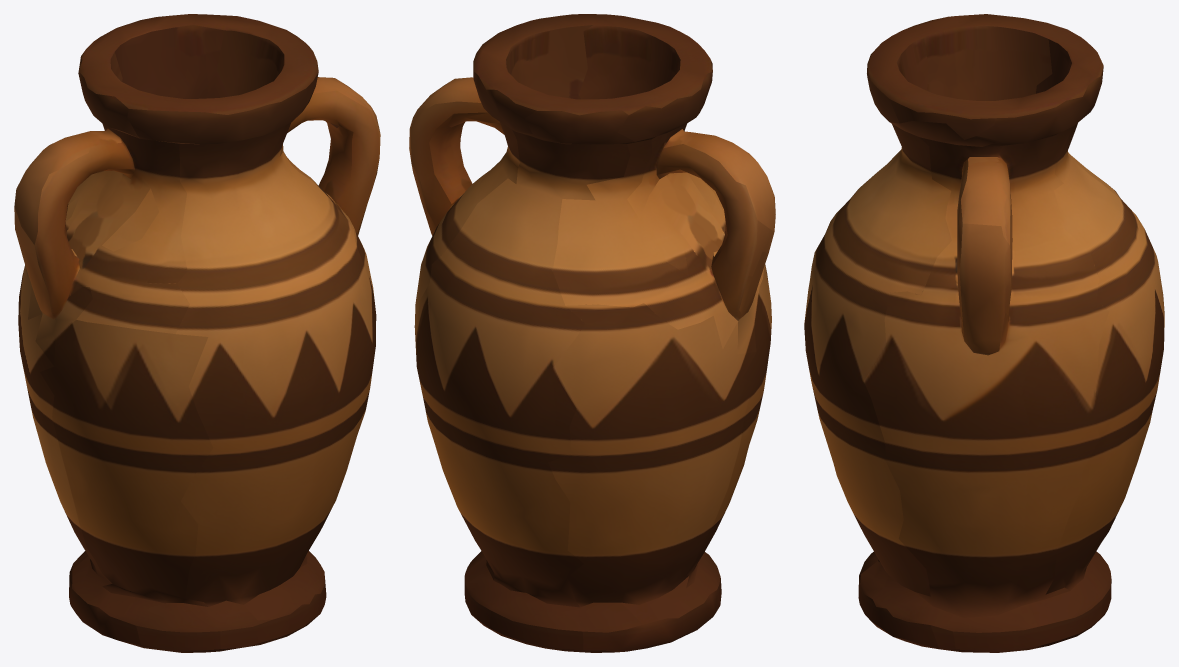
Rendered from Vase2.fbx.
The picture shows the model from 3 angles, left to right: view 1: azimuth 30°, elevation 25°; view 2: azimuth 150°, elevation 25°; view 3: azimuth 270°, elevation 25°; orthographic projection.
Visible parts, largest first — view 1: tmpgyj38fgy.ply; view 2: tmpgyj38fgy.ply; view 3: tmpgyj38fgy.ply.
Boxes of the visible parts, bbox=[...] form: tmpgyj38fgy.ply: bbox=[14, 14, 380, 652]; tmpgyj38fgy.ply: bbox=[409, 14, 775, 652]; tmpgyj38fgy.ply: bbox=[804, 14, 1164, 652].
Bounding box in the file's own units: 136 × 199 × 121.
1 material, 1 textured.
